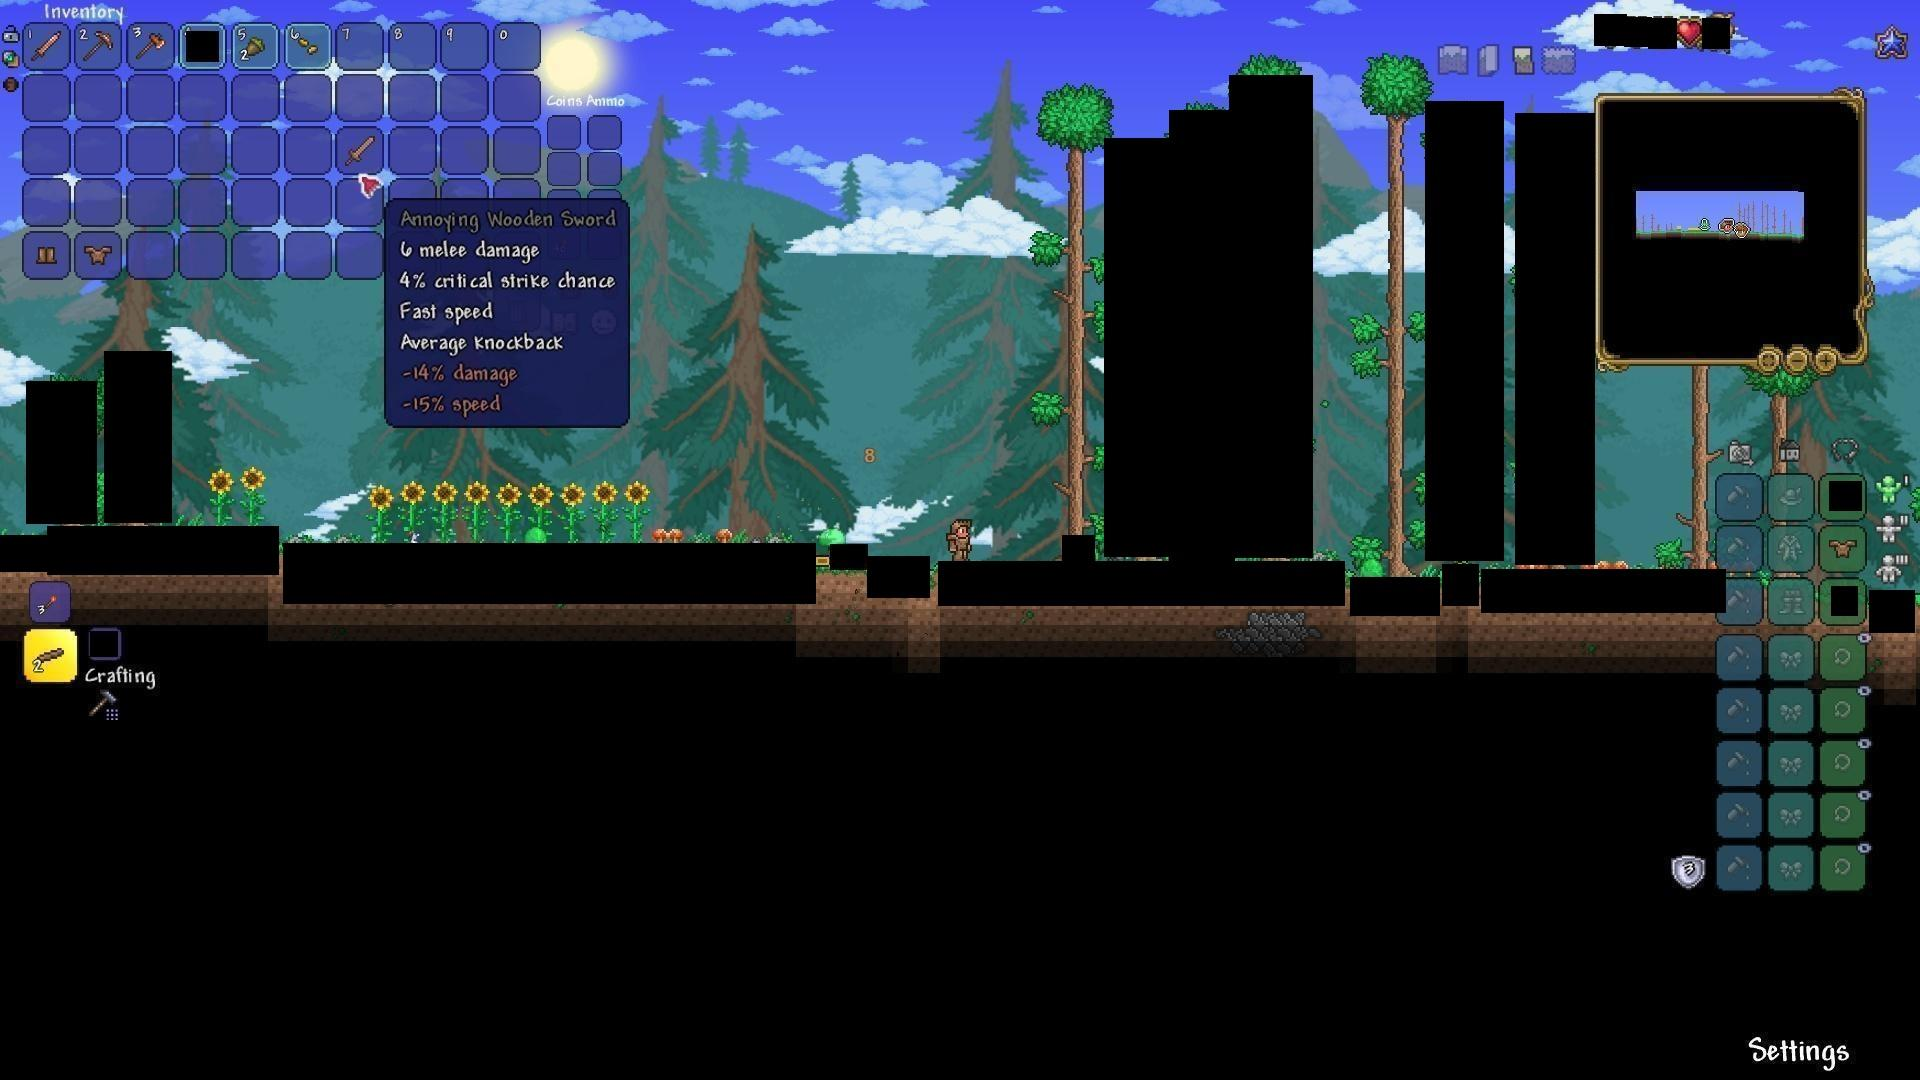breastplate: (1830, 535, 1859, 558), (80, 243, 111, 264)
heart: (1675, 17, 1702, 47)
legs: (33, 243, 58, 270)
slime: (816, 522, 841, 550), (521, 522, 546, 550), (1360, 556, 1385, 576)
tree: (1344, 61, 1429, 555), (1033, 73, 1106, 534), (1676, 363, 1716, 564)
